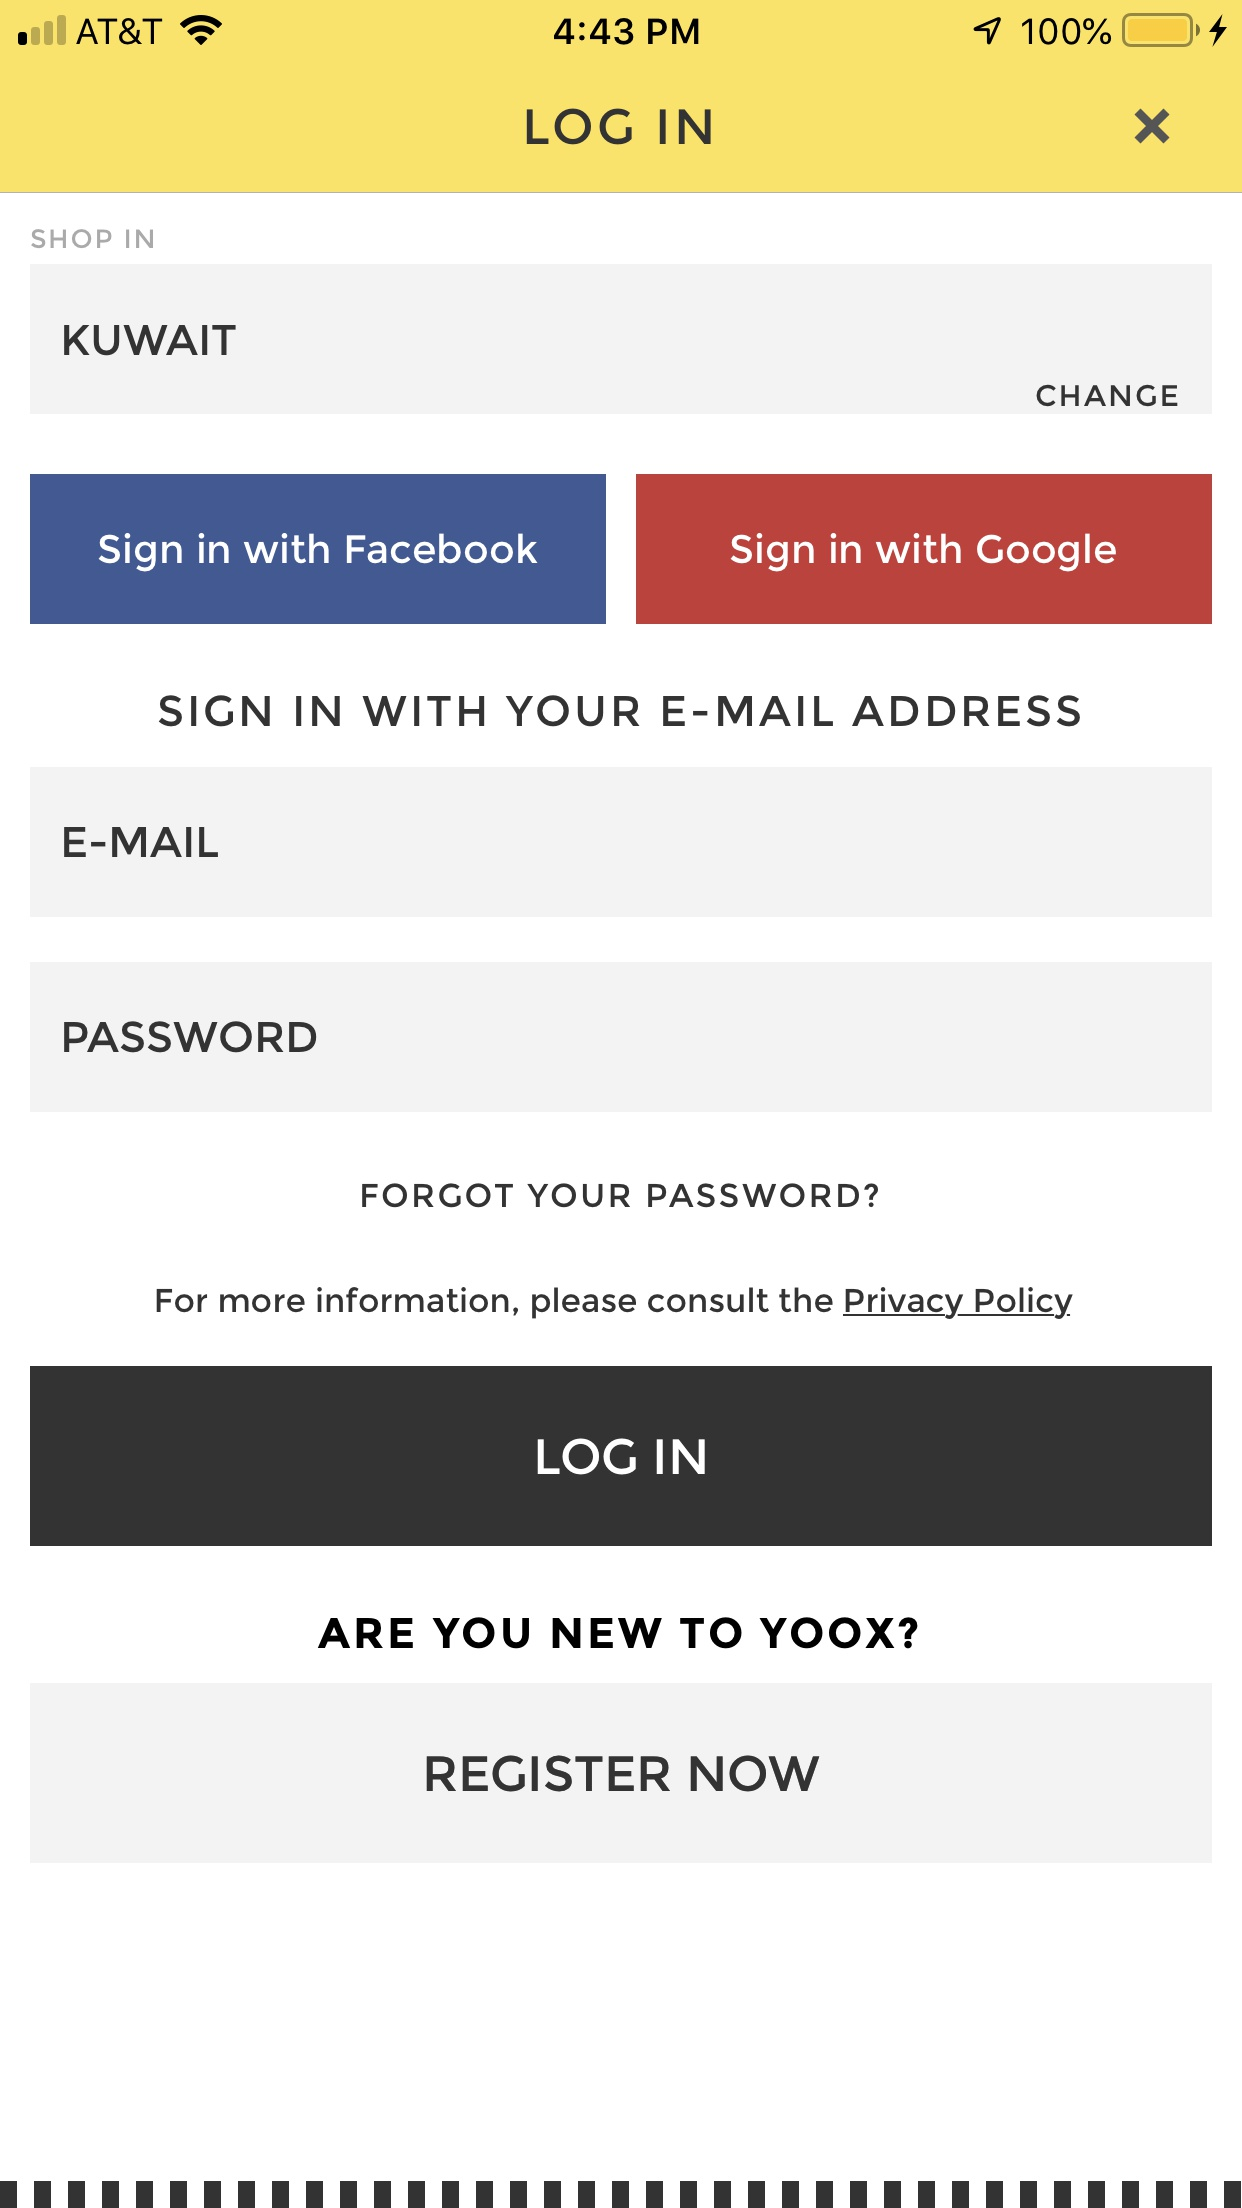EditText: (30, 961, 1212, 1113), (30, 767, 1212, 917)
Icon: (1133, 109, 1171, 146)
Text: (159, 695, 1081, 728), (156, 1286, 1074, 1319), (318, 1614, 917, 1651), (362, 1181, 880, 1209), (64, 1021, 317, 1052), (526, 108, 713, 147), (64, 325, 238, 356), (64, 826, 220, 860), (1036, 385, 1178, 408), (30, 227, 155, 250)
TextButton: (30, 1366, 1212, 1547), (30, 1683, 1212, 1864), (635, 475, 1213, 625), (30, 475, 607, 625)
UpperTaskBar: (2, 2, 1242, 49)
